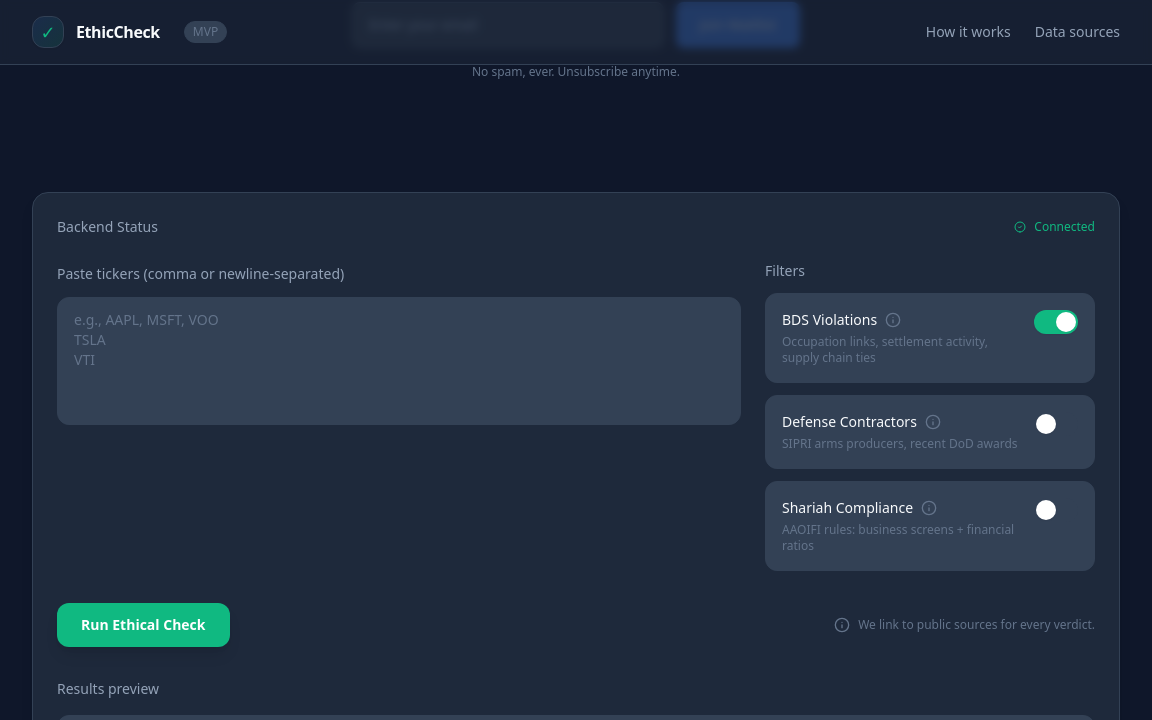
it: Error Scenarios and Edge Cases › Network and API Errors › handles 500 server errors
The image size is (1152, 720).
(page scrolled)
Type "AAPL" into the text box with placeholder "e.g., AAPL, MSFT, VOO TSLA VTI" at (399, 361), box [57,297,741,425]
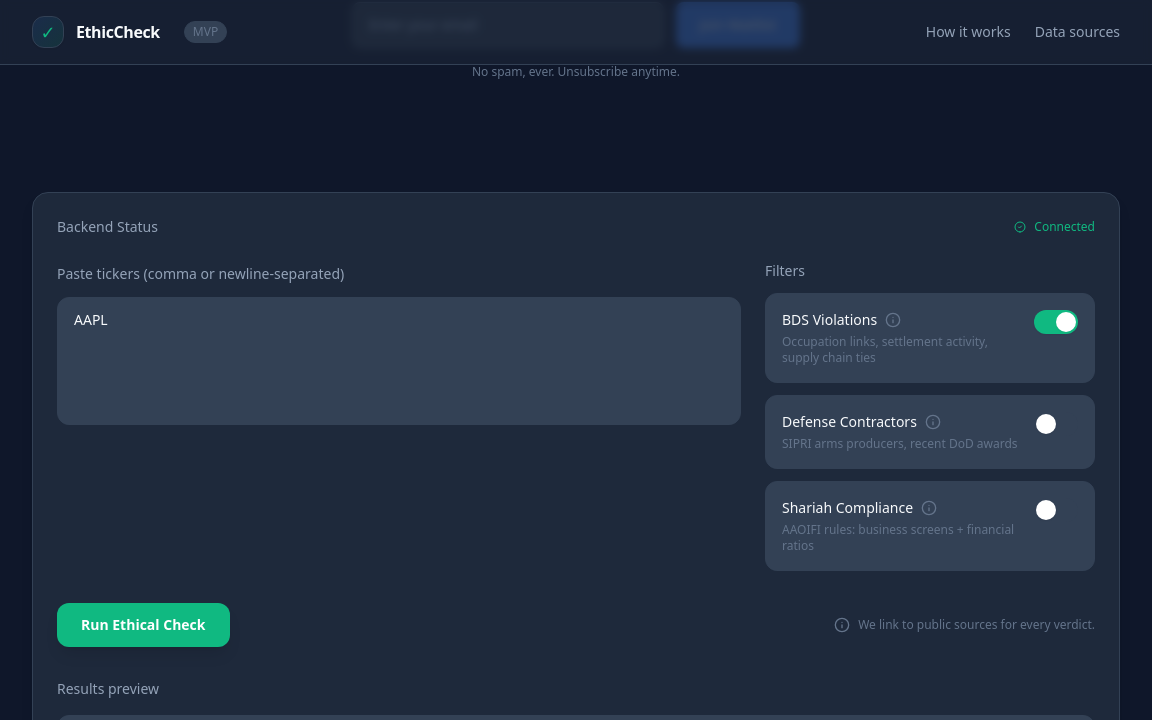
Click the button "Run Ethical Check" at (143, 625), box [57,603,230,647]
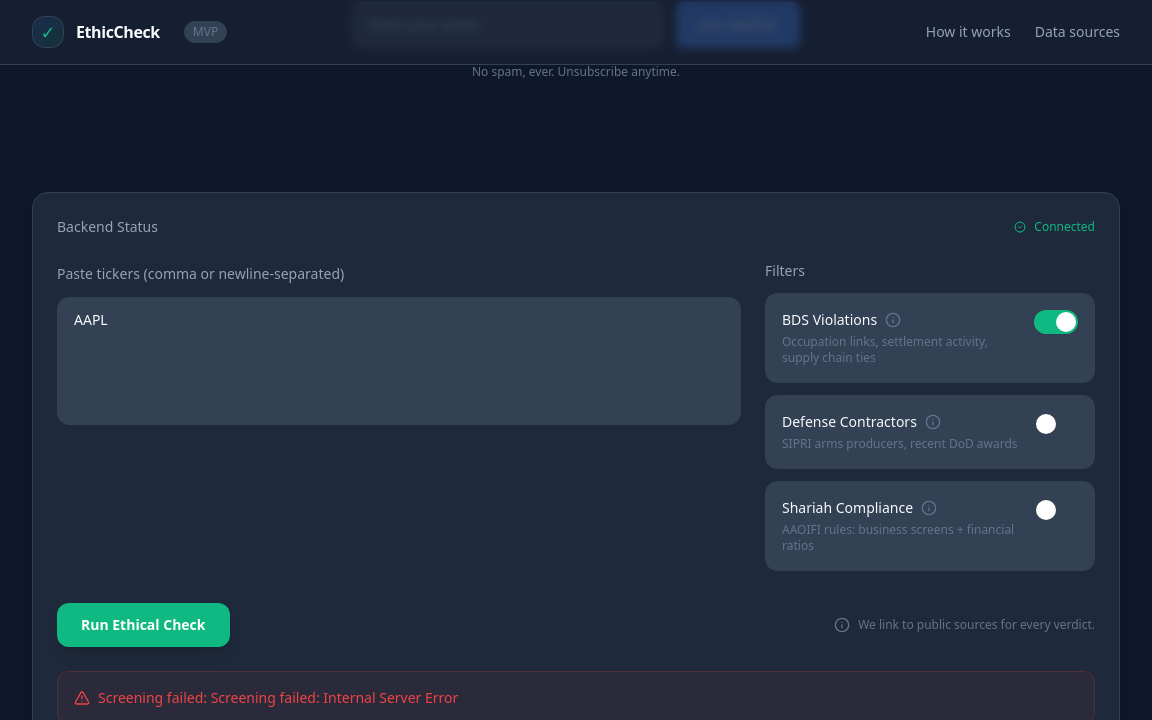
Expected: the text "Screening failed: Screening failed: Internal Server Error" is shown, [74,688,458,707]
